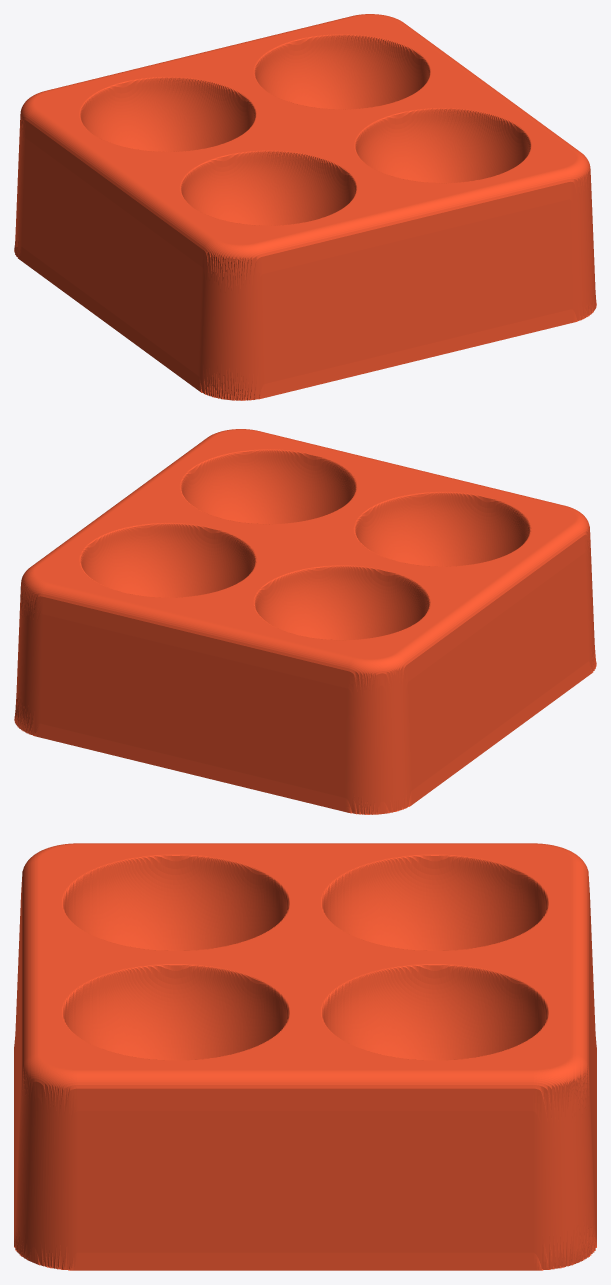
Rendered from mold.glb.
3 views of the same model, one above another, from view 1: azimuth 30°, elevation 25°; view 2: azimuth 150°, elevation 25°; view 3: azimuth 270°, elevation 25° (orthographic). The views are drawn at different scales.
Parts seen in each view (by area): view 1: geometry_0; view 2: geometry_0; view 3: geometry_0.
Boxes of the visible parts, x1,y1,x2,y2 form: geometry_0: (14,14,596,400); geometry_0: (14,429,596,814); geometry_0: (14,843,596,1270).
Size of the model in its own units: 0.0828 by 0.0298 by 0.0828.
